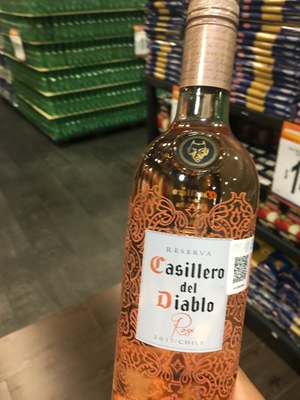casillero del diablo rose: (114, 15, 268, 400)
